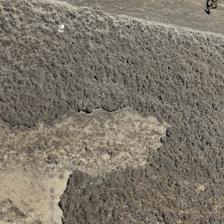Crack: (24, 34, 73, 145), (70, 29, 107, 105), (52, 42, 128, 72)
